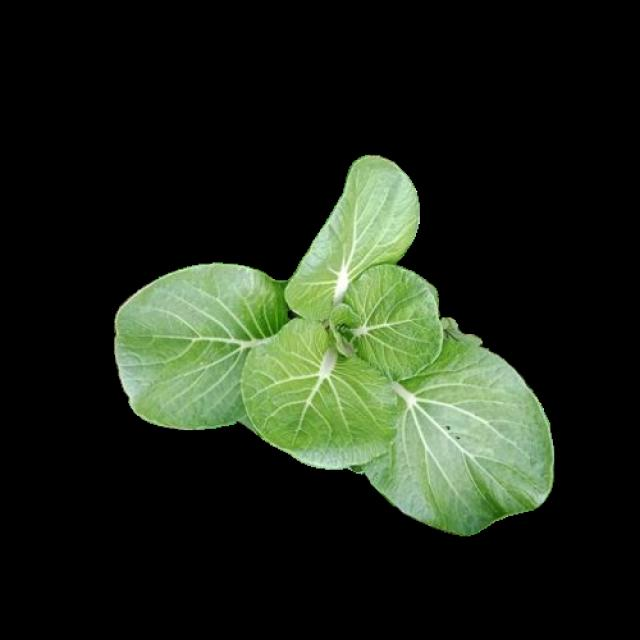mature: (121, 157, 552, 534)
unhealthy: (360, 334, 556, 529)
